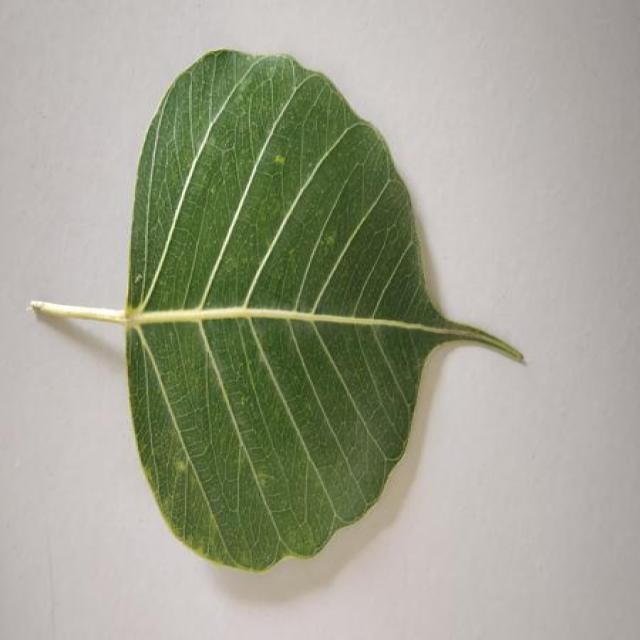arali: (32, 50, 523, 571)
